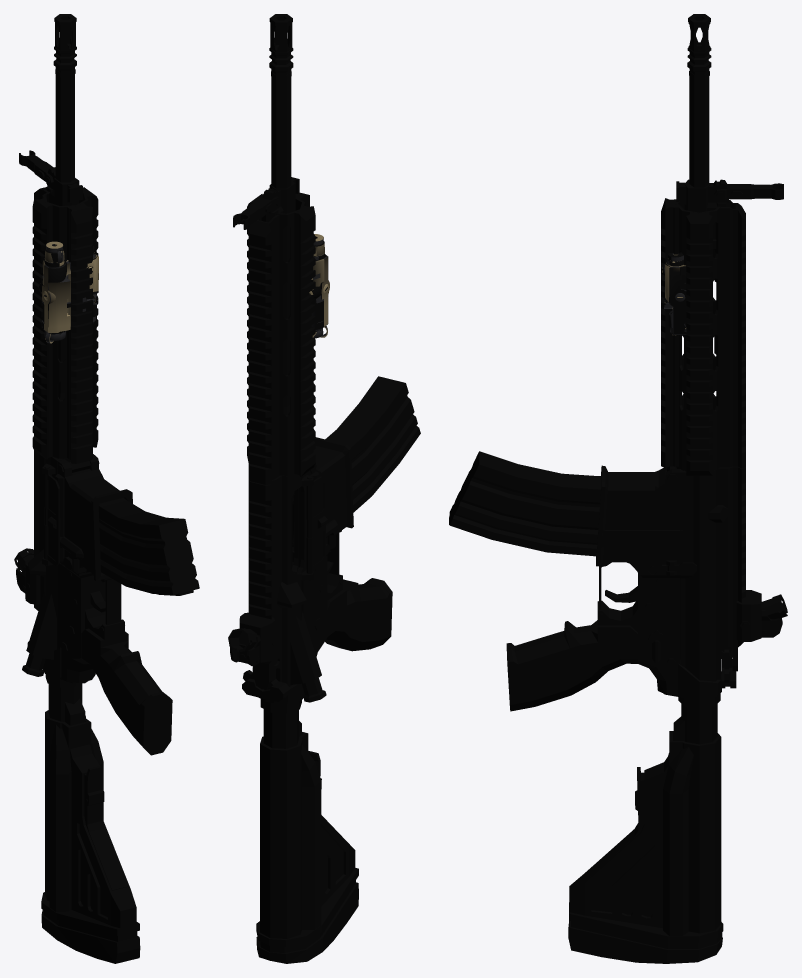
Rendered from HK416__Laser_Rifle.fbx.
The picture shows the model from 3 angles, left to right: view 1: azimuth 30°, elevation 25°; view 2: azimuth 150°, elevation 25°; view 3: azimuth 270°, elevation 25°; orthographic projection. The views are drawn at different scales.
Visible parts, largest first — view 1: asset_HK416.001; view 2: asset_HK416.001; view 3: asset_HK416.001.
Boxes of the visible parts, x1,y1,x2,y2 form: asset_HK416.001: (14,14,199,963); asset_HK416.001: (228,14,420,963); asset_HK416.001: (449,14,787,963).
Size of the model in its own units: 0.0385 by 0.48 by 0.1577.
